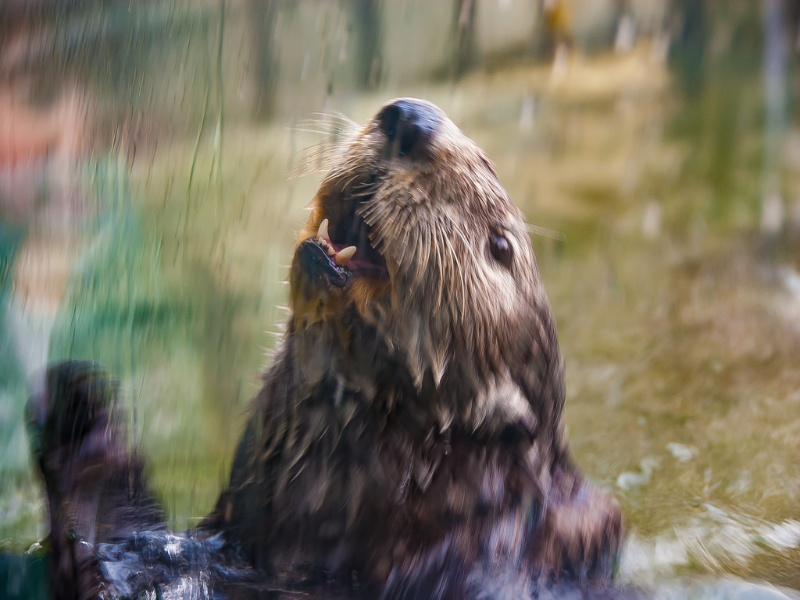minkish: (37, 98, 625, 597)
